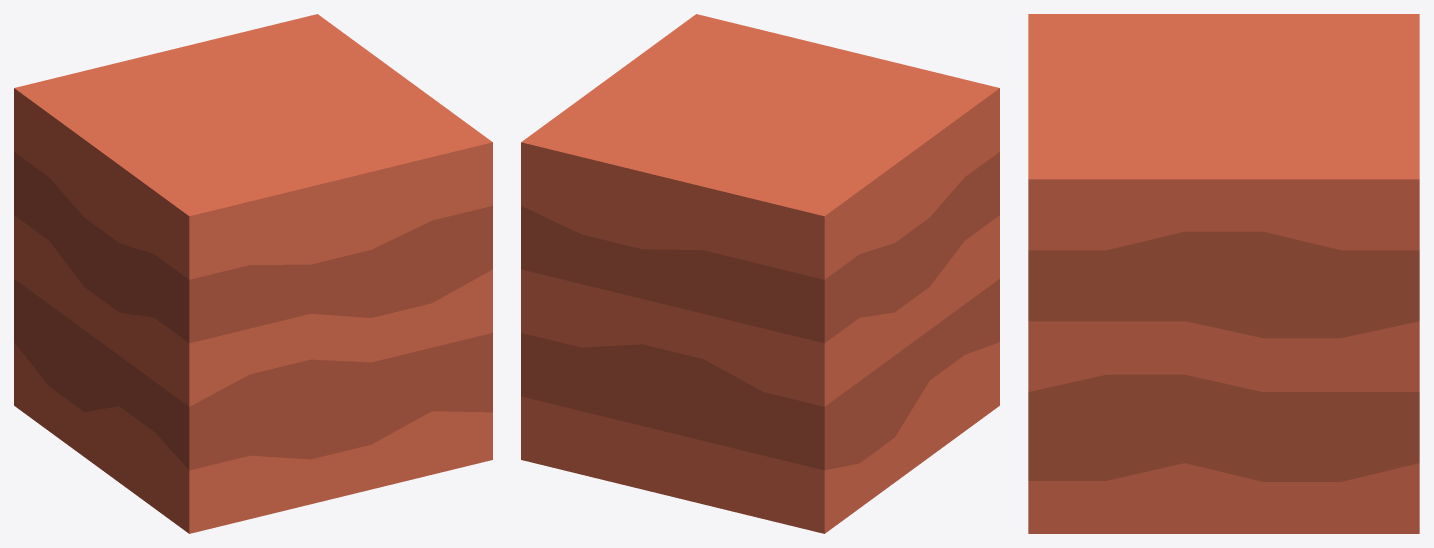
The model's file is Stone004.fbx.
3 views of the same model, side by side, from view 1: azimuth 30°, elevation 25°; view 2: azimuth 150°, elevation 25°; view 3: azimuth 270°, elevation 25° (orthographic). The views are drawn at different scales.
Visible parts, largest first — view 1: Stone004; view 2: Stone004; view 3: Stone004.
Boxes of the visible parts, x1,y1,x2,y2 form: Stone004: (14,14,492,533); Stone004: (521,14,999,533); Stone004: (1028,14,1419,533).
Bounding box in the file's own units: 156 × 156 × 156.
